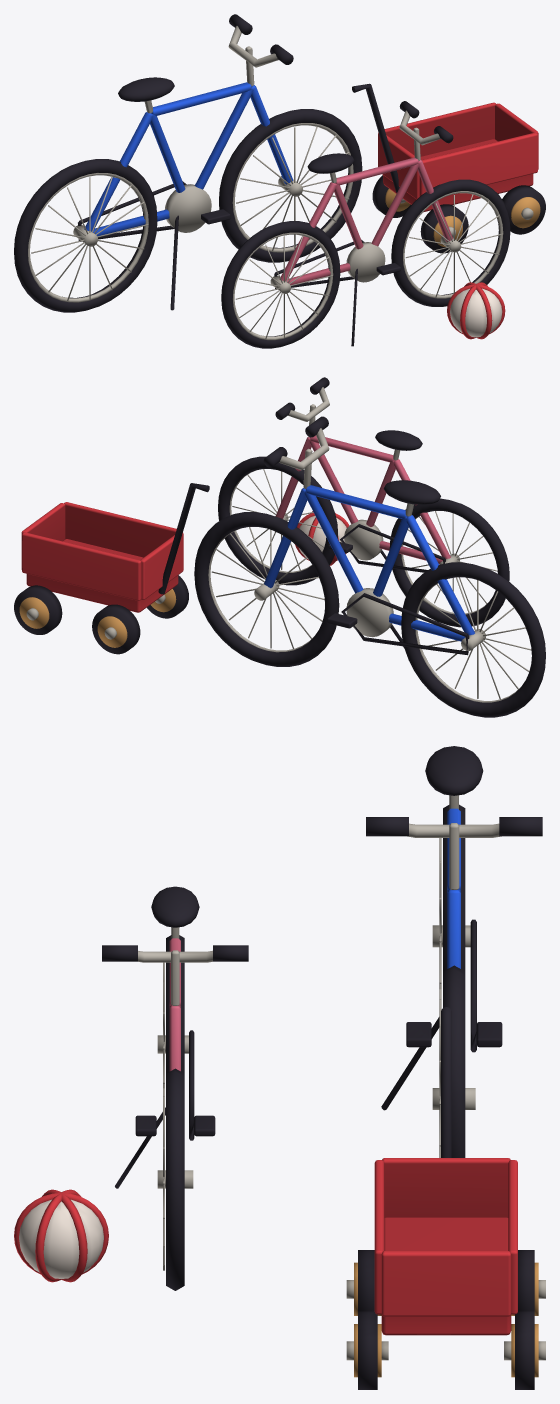
3 views of the same model, one above another, from view 1: azimuth 30°, elevation 25°; view 2: azimuth 150°, elevation 25°; view 3: azimuth 270°, elevation 25° (orthographic). The views are drawn at different scales.
Parts seen in each view (by area): view 1: root_pal_survivorRed, root_pal_uiDark, wheel_rear_policeBlue_pal_uiDark, root_pal_policeBlue, wheel_front_policeBlue_pal_uiDark, root_pal_silver, wheel_rear_flamingoPink_pal_uiDark, root_pal_flamingoPink, wheel_front_flamingoPink_pal_uiDark, wheel_rear_policeBlue_pal_silver, wheel_front_policeBlue_pal_silver, wheel_rear_flamingoPink_pal_silver (+3 smaller); view 2: root_pal_survivorRed, root_pal_uiDark, wheel_front_policeBlue_pal_uiDark, wheel_rear_policeBlue_pal_uiDark, root_pal_policeBlue, root_pal_silver, wheel_rear_flamingoPink_pal_uiDark, root_pal_flamingoPink, wheel_front_flamingoPink_pal_uiDark, wheel_front_policeBlue_pal_silver, wheel_rear_policeBlue_pal_silver, root_pal_brass (+3 smaller); view 3: root_pal_survivorRed, root_pal_uiDark, root_pal_silver, wheel_front_flamingoPink_pal_uiDark, root_pal_picketWhite, wheel_front_policeBlue_pal_uiDark, root_pal_policeBlue, wheel_rear_policeBlue_pal_uiDark, root_pal_brass, root_pal_flamingoPink, wheel_rear_flamingoPink_pal_uiDark, wheel_rear_policeBlue_pal_silver (+1 smaller).
Part boxes in pixels (left/top/right/bottom): root_pal_survivorRed: left=378, top=102, right=538, bottom=339; root_pal_uiDark: left=78, top=14, right=545, bottom=346; wheel_rear_policeBlue_pal_uiDark: left=14, top=159, right=157, bottom=312; root_pal_policeBlue: left=84, top=82, right=293, bottom=236; wheel_front_policeBlue_pal_uiDark: left=219, top=109, right=362, bottom=262; root_pal_silver: left=144, top=26, right=533, bottom=282; wheel_rear_flamingoPink_pal_uiDark: left=221, top=221, right=340, bottom=348; root_pal_flamingoPink: left=279, top=157, right=452, bottom=285; wheel_front_flamingoPink_pal_uiDark: left=391, top=179, right=510, bottom=306; wheel_rear_policeBlue_pal_silver: left=28, top=173, right=148, bottom=302; wheel_front_policeBlue_pal_silver: left=232, top=123, right=353, bottom=252; wheel_rear_flamingoPink_pal_silver: left=233, top=232, right=333, bottom=340; root_pal_survivorRed: left=21, top=502, right=349, bottom=612; root_pal_uiDark: left=14, top=377, right=469, bottom=655; wheel_front_policeBlue_pal_uiDark: left=194, top=512, right=339, bottom=666; wheel_rear_policeBlue_pal_uiDark: left=401, top=562, right=545, bottom=717; root_pal_policeBlue: left=264, top=485, right=474, bottom=641; root_pal_silver: left=26, top=387, right=413, bottom=639; wheel_rear_flamingoPink_pal_uiDark: left=389, top=498, right=509, bottom=627; root_pal_flamingoPink: left=275, top=435, right=450, bottom=564; wheel_front_flamingoPink_pal_uiDark: left=218, top=456, right=337, bottom=585; wheel_front_policeBlue_pal_silver: left=208, top=527, right=324, bottom=652; wheel_rear_policeBlue_pal_silver: left=415, top=577, right=531, bottom=702; root_pal_brass: left=19, top=589, right=176, bottom=647; root_pal_survivorRed: left=14, top=1158, right=517, bottom=1335; root_pal_uiDark: left=102, top=746, right=542, bottom=1389; root_pal_silver: left=138, top=795, right=545, bottom=1360; wheel_front_flamingoPink_pal_uiDark: left=166, top=1068, right=184, bottom=1290; root_pal_picketWhite: left=19, top=1199, right=103, bottom=1278; wheel_front_policeBlue_pal_uiDark: left=443, top=965, right=465, bottom=1157; root_pal_policeBlue: left=447, top=808, right=460, bottom=968; wheel_rear_policeBlue_pal_uiDark: left=443, top=804, right=465, bottom=970; root_pal_brass: left=354, top=1262, right=538, bottom=1377; root_pal_flamingoPink: left=169, top=938, right=180, bottom=1071; wheel_rear_flamingoPink_pal_uiDark: left=166, top=935, right=184, bottom=1072; wheel_rear_policeBlue_pal_silver: left=432, top=838, right=470, bottom=989.
Size of the model in its own units: 2.41 by 1.09 by 1.35.
